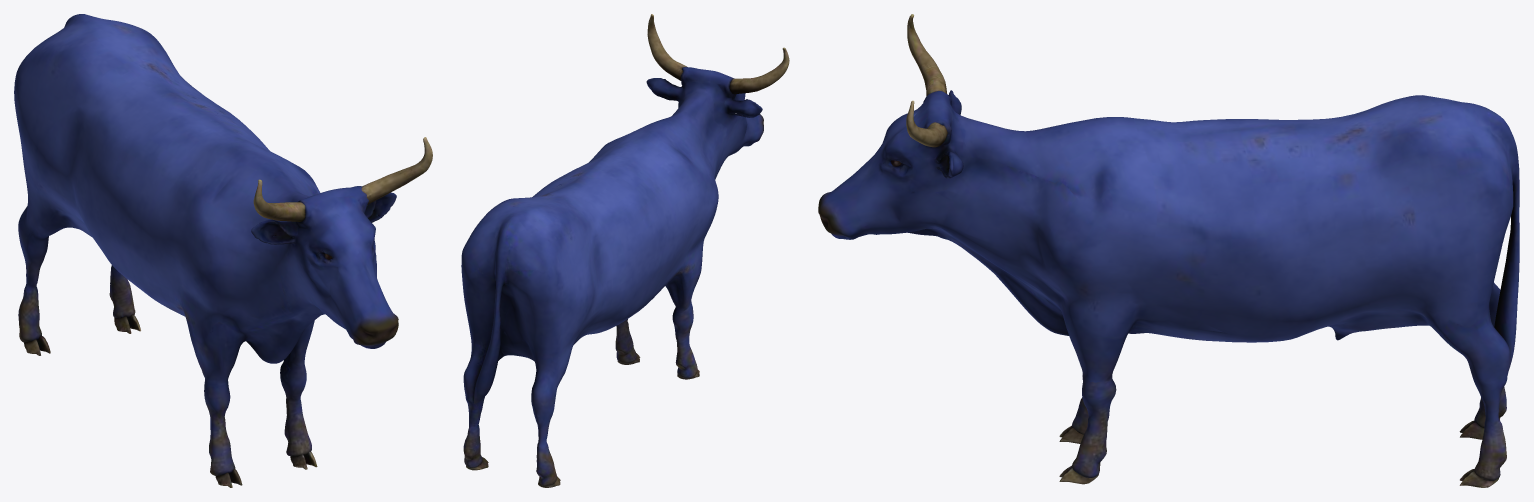
File: MZ4250 - Ox_Blue.glb
The picture shows the model from 3 angles, left to right: view 1: azimuth 30°, elevation 25°; view 2: azimuth 150°, elevation 25°; view 3: azimuth 270°, elevation 25°; orthographic projection. The views are drawn at different scales.
Visible parts, largest first — view 1: COW.001; view 2: COW.001; view 3: COW.001.
Boxes of the visible parts, x1,y1,x2,y2 form: COW.001: [14, 14, 432, 487]; COW.001: [461, 14, 789, 487]; COW.001: [818, 14, 1519, 487].
Bounding box in the file's own units: 0.4682 × 0.9338 × 1.47.
Materials: 1 (1 with a texture image).
